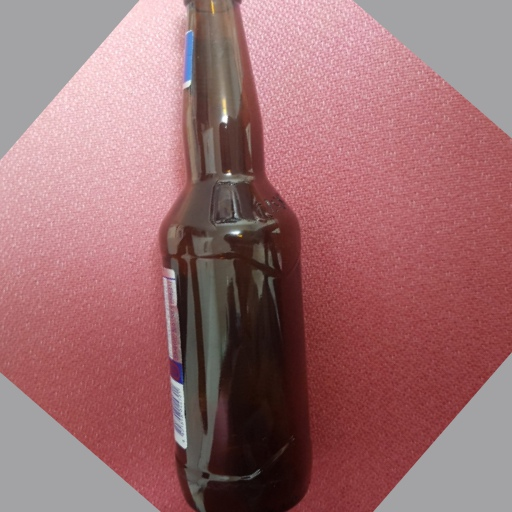Glass_1: (157, 1, 312, 512)
